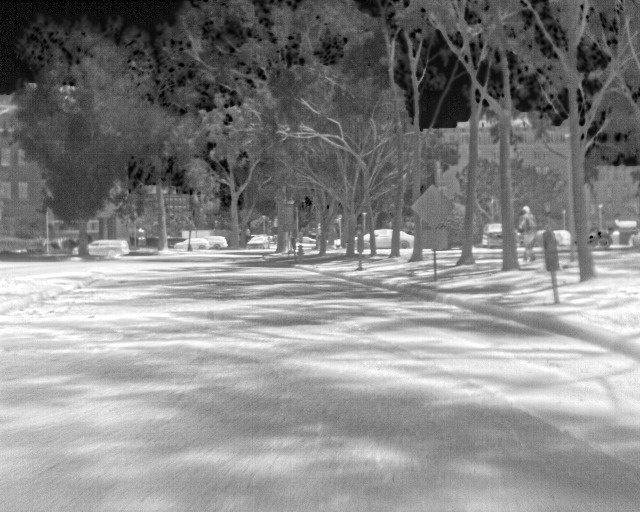vehicle: (74, 238, 130, 261), (174, 238, 209, 252)
